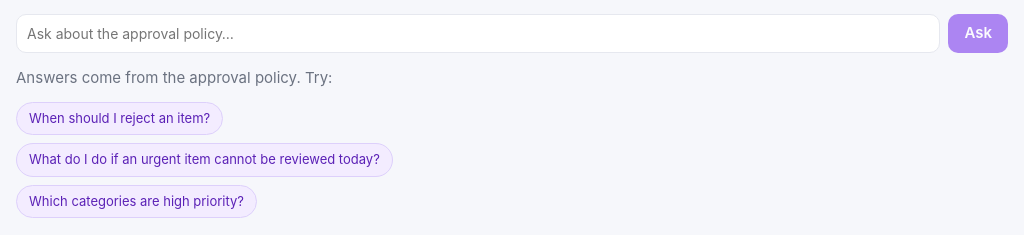
Test: HelpView › shows the policy sources first, then streams the answer in
The image size is (1024, 235).
Type "When should I reject?" into the field named "question" at (478, 34), box [16,14,940,53]
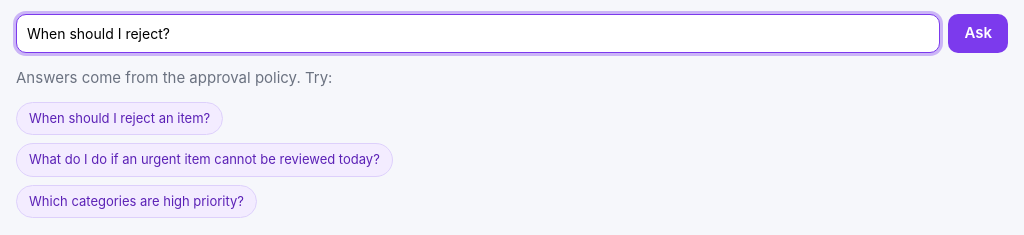
Click the button "Ask" at (978, 34), box [948,14,1008,53]
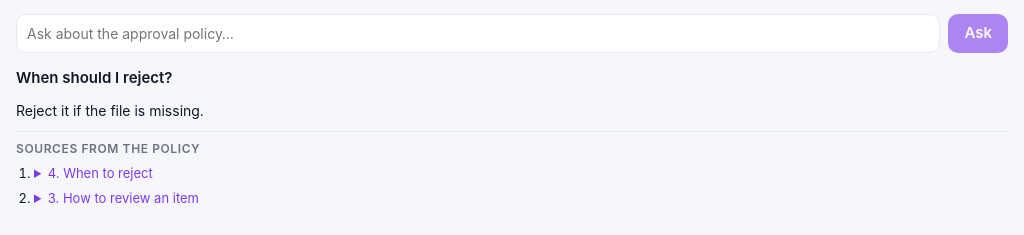
Expected: the heading "4. When to reject" is shown, [48,164,153,180]
Expected: the heading "3. How to review an item" is shown, [48,190,199,206]
Expected: the text "Reject it if" is shown, [16,102,204,118]
Type "Next question" into the field named "question" at (478, 34), box [16,14,940,53]
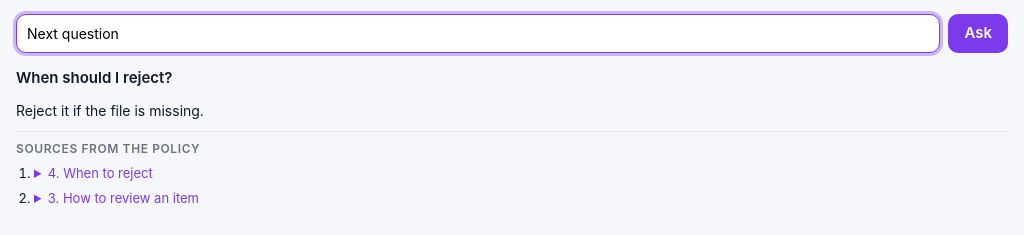
Expected: the button "Ask" is enabled, [948,14,1008,53]
